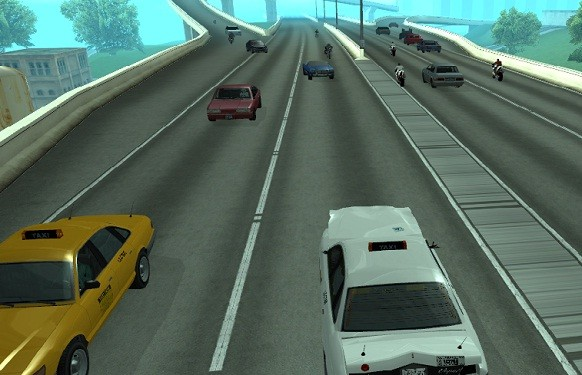bike: (488, 60, 508, 84), (392, 62, 409, 89), (321, 42, 334, 63)
car: (316, 201, 490, 375), (1, 198, 162, 375), (205, 82, 264, 126), (418, 61, 467, 90), (299, 57, 336, 80), (414, 38, 445, 57), (244, 38, 270, 54), (374, 25, 392, 38)
